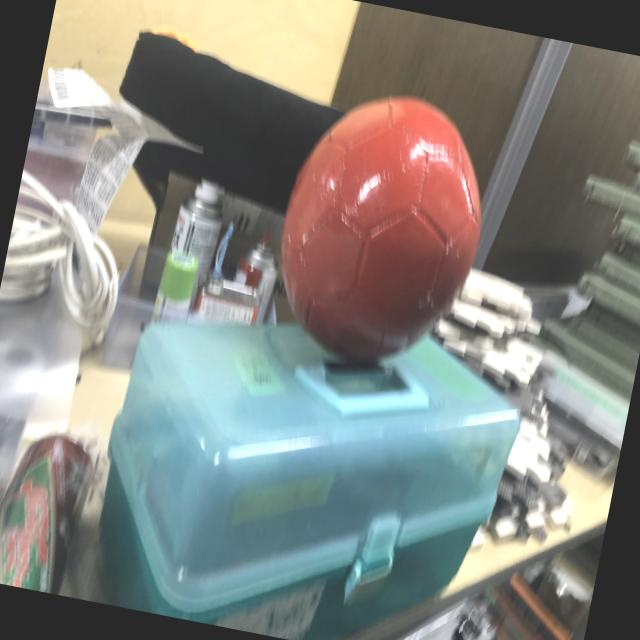red_ball: (258, 80, 504, 382)
